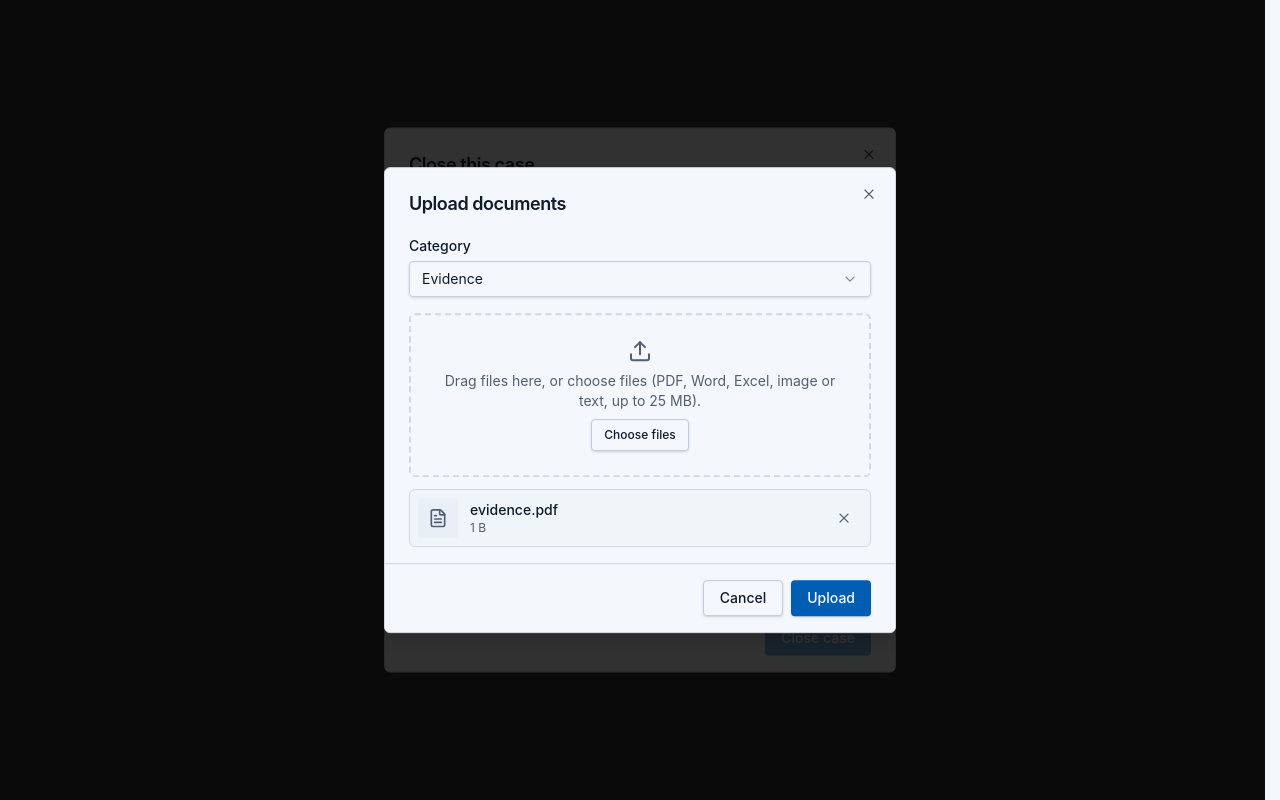
it: useCloseCase › enables Close case for a document uploaded under any tag, and still shows which tag it got
Earlier steps of the test are not shown.
Step 1. Click the button "Upload" → (831, 598), box [791,580,871,616]
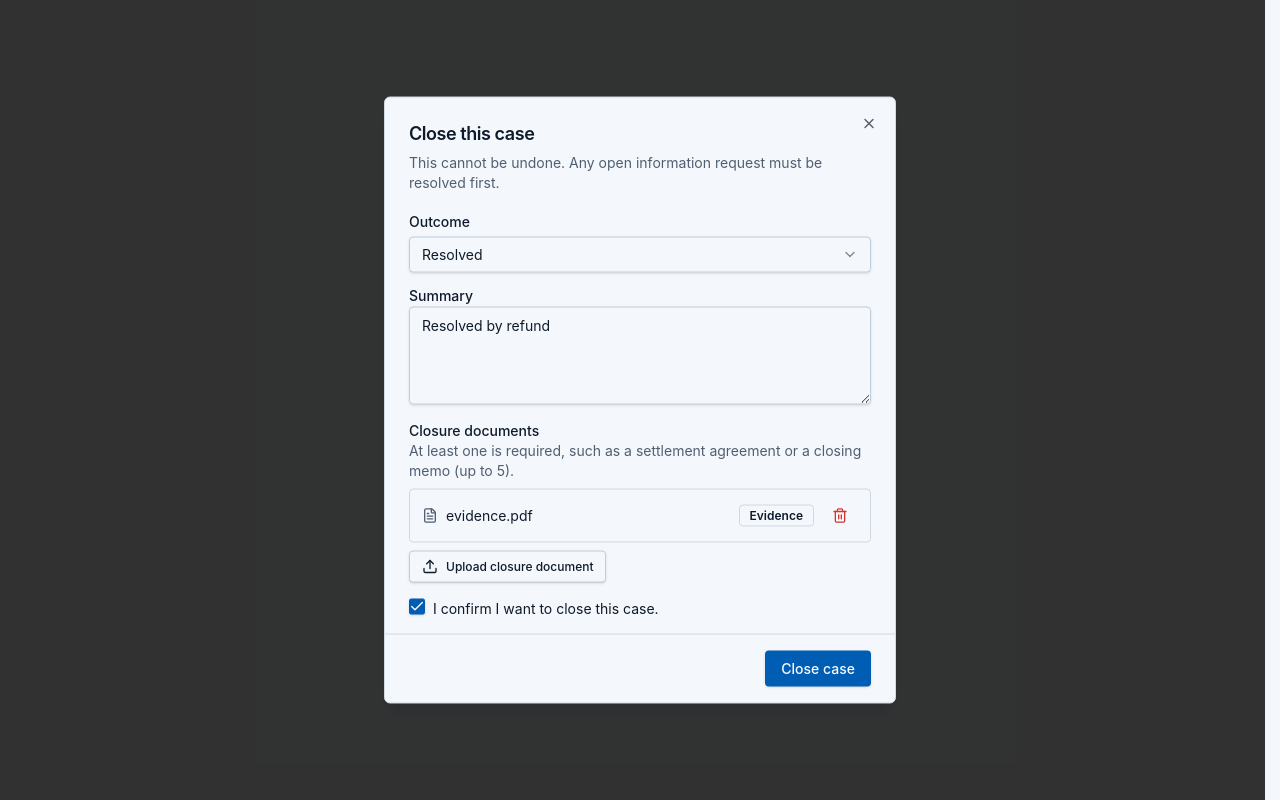
Expected: the text "evidence.pdf" is shown, [446,506,533,523]
Expected: the button "Close case" is enabled, [765,650,871,686]
